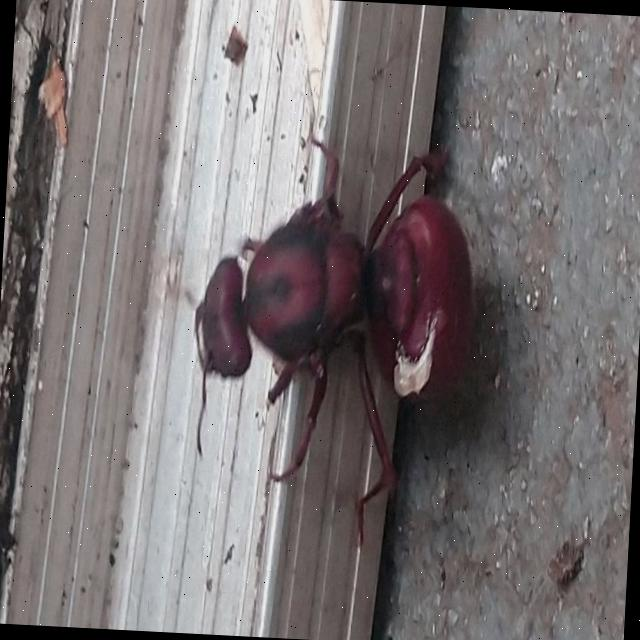Alive-Female-Dealate: (150, 109, 484, 554)
